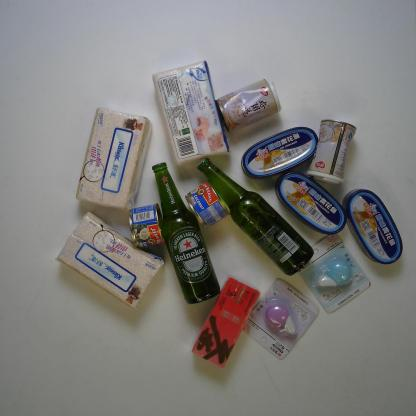Alcohol: (195, 155, 315, 278), (148, 159, 224, 307)
Canned Food: (272, 168, 349, 237), (340, 186, 406, 266), (238, 124, 320, 180), (213, 75, 285, 135), (304, 116, 359, 186), (182, 178, 233, 232), (125, 201, 169, 252)
Instant Drink: (189, 272, 262, 370)
Stationery: (240, 276, 321, 362), (295, 231, 373, 315)
Tissue: (53, 209, 167, 312), (150, 57, 233, 167), (73, 103, 154, 214)
